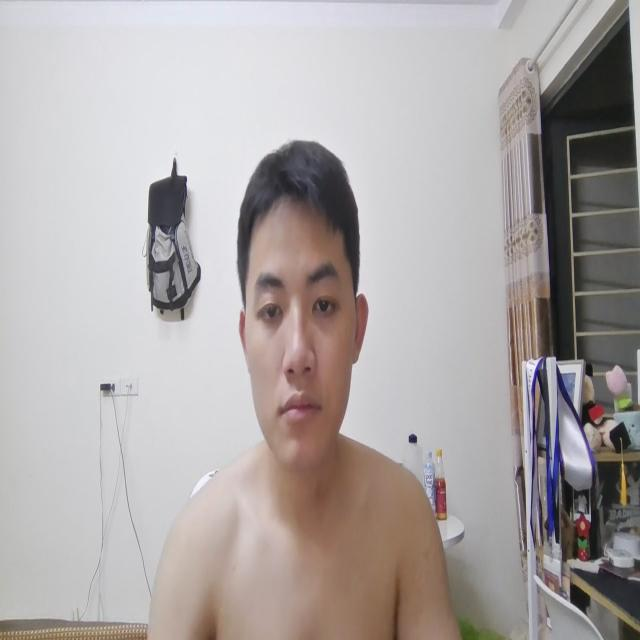student: (205, 137, 423, 640)
